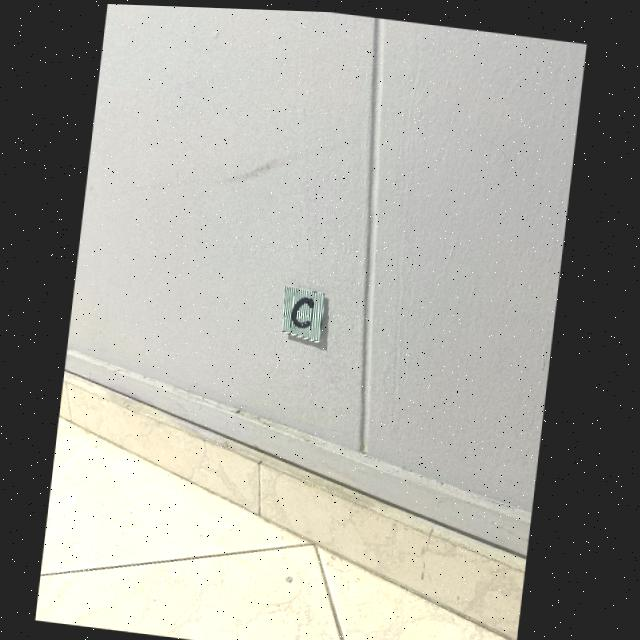C: (294, 295, 315, 327)
